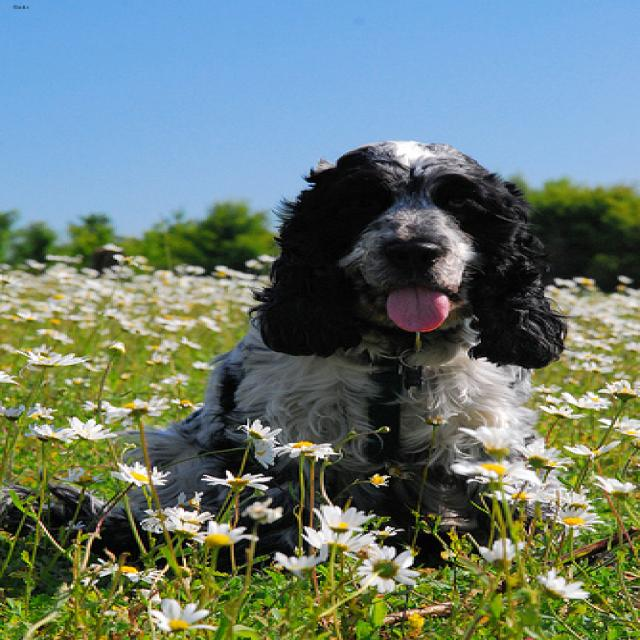dog-english_cocker_spaniel: (2, 125, 579, 605)
